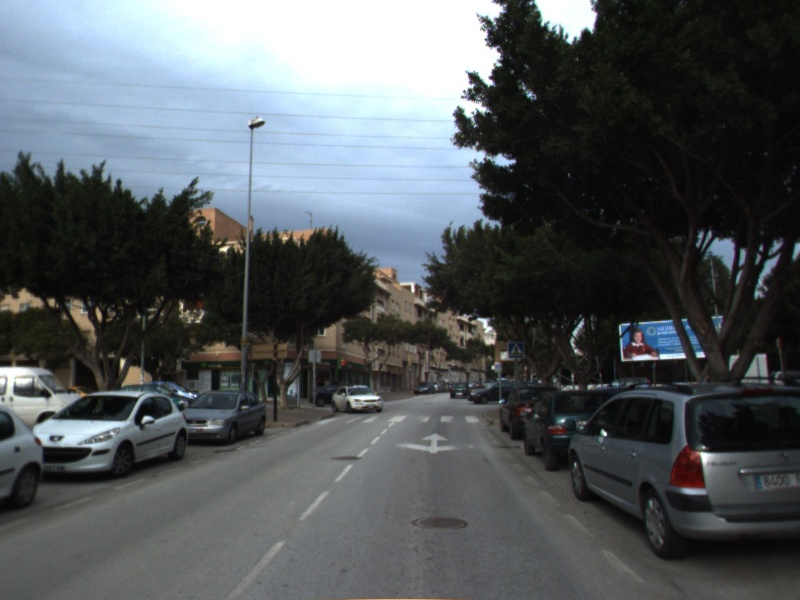STRAIGHT_LEFT_RIGHT: (392, 430, 476, 456)
